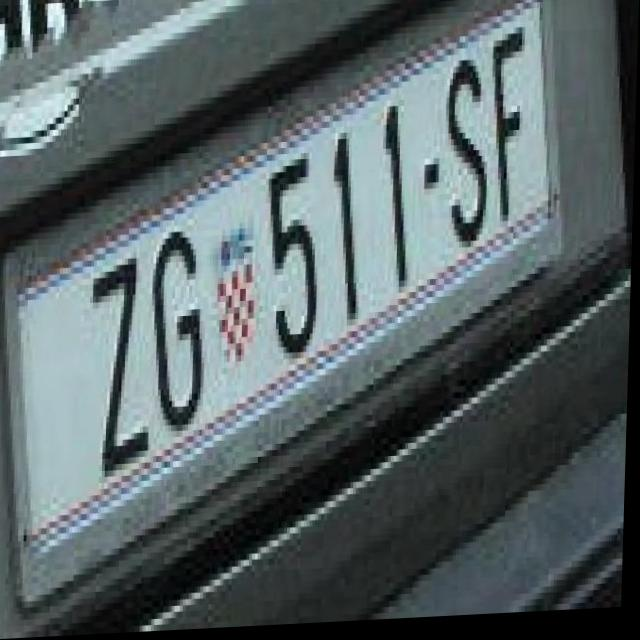1: (326, 123, 374, 343), (374, 97, 419, 317)
5: (263, 155, 325, 369)
F: (483, 26, 531, 240)
G: (148, 232, 213, 447)
S: (441, 52, 494, 260)
Z: (87, 253, 156, 497)
